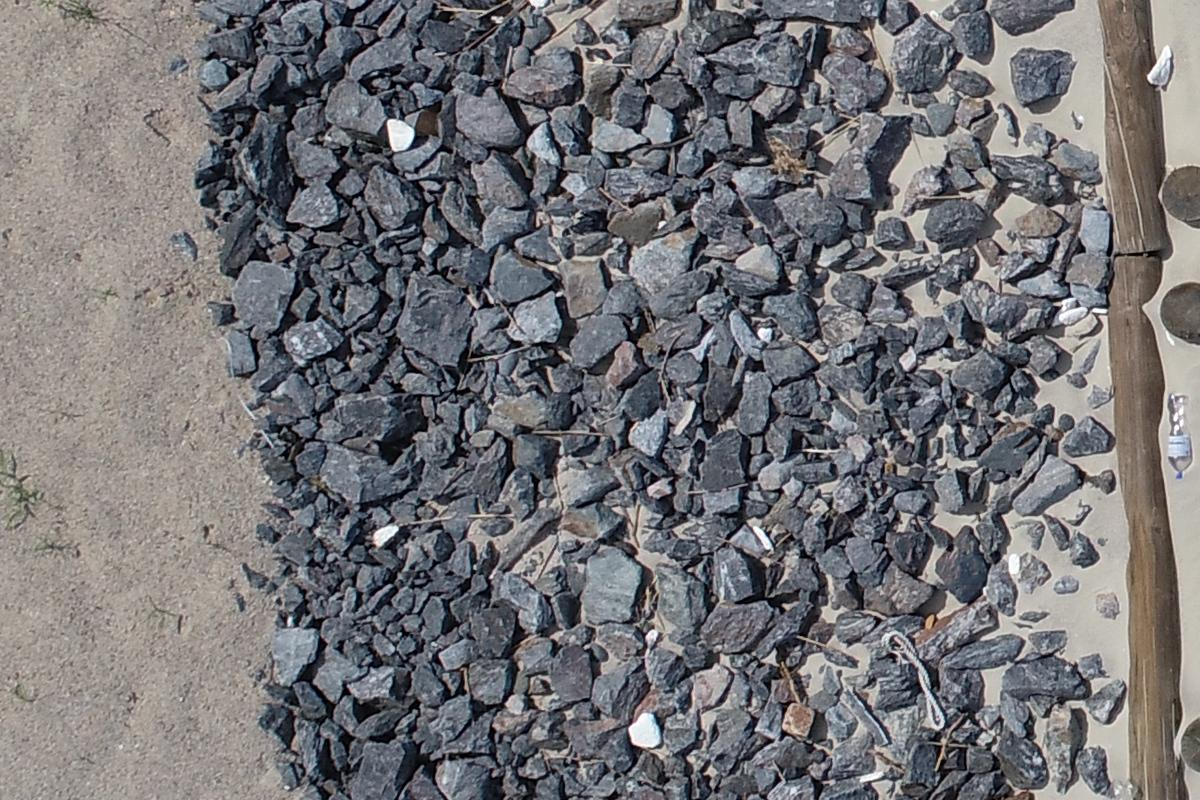(11)PET_Bottle: (1077, 779, 1139, 800)
(21)Styrofoam_Piece: (626, 707, 664, 748), (384, 115, 418, 151)
